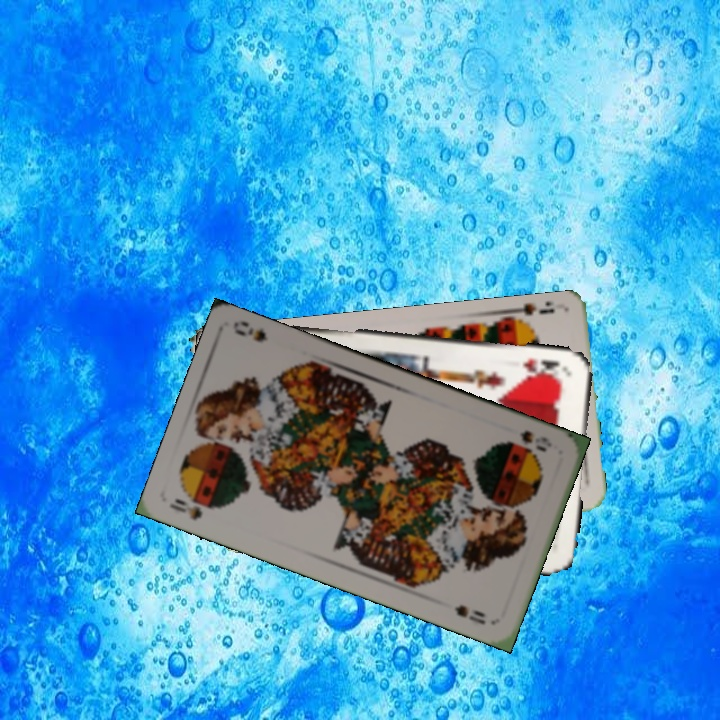HK: (519, 354, 567, 381)
S9: (503, 301, 557, 330)
SO: (165, 494, 205, 524), (516, 426, 555, 455)
